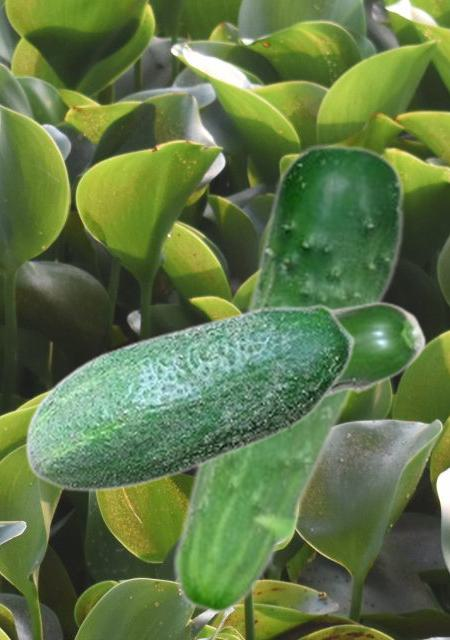cucumber: (170, 143, 405, 614), (24, 303, 355, 491), (319, 301, 426, 407)
